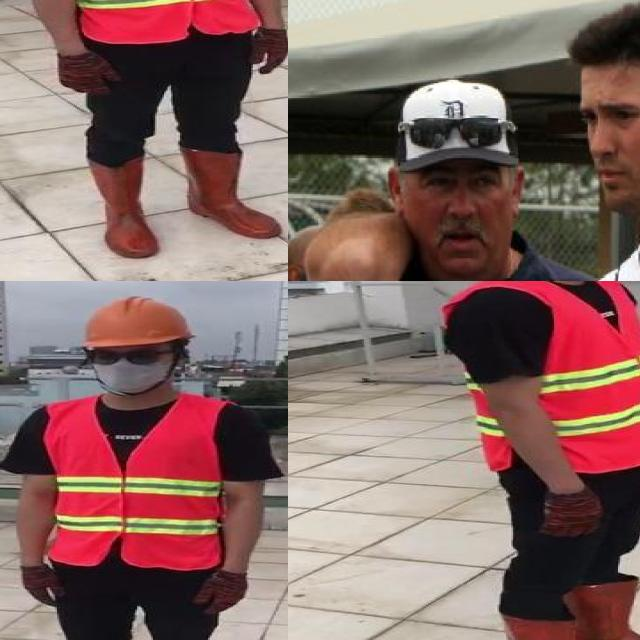boots: (185, 147, 287, 237), (88, 160, 160, 255), (555, 580, 640, 640), (501, 612, 640, 640)
face_mask: (78, 340, 180, 400)
face_nomask: (409, 165, 506, 261), (581, 94, 640, 193)
glasses: (398, 107, 519, 150), (82, 343, 174, 373)
hand_glove: (536, 491, 598, 536), (61, 52, 119, 95), (194, 576, 251, 613), (21, 565, 66, 606), (251, 28, 288, 75)
head_helmet: (76, 292, 200, 353)
head_nohelmet: (390, 86, 527, 174), (573, 0, 640, 81)
person: (4, 290, 265, 640), (426, 281, 640, 640), (1, 0, 288, 257), (315, 81, 638, 281), (537, 0, 640, 281)
vest: (441, 281, 640, 471), (46, 396, 222, 571), (66, 0, 254, 42)
